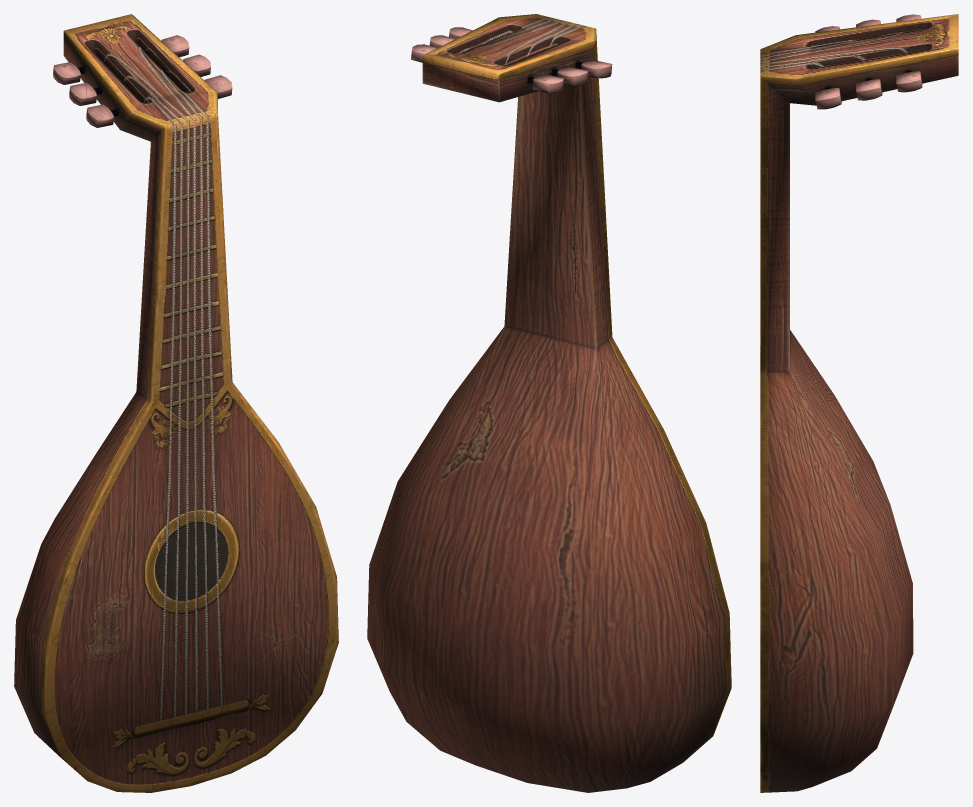
The model's file is lute.glb.
3 views of the same model, side by side, from view 1: azimuth 30°, elevation 25°; view 2: azimuth 150°, elevation 25°; view 3: azimuth 270°, elevation 25° (orthographic). The views are drawn at different scales.
Parts seen in each view (by area): view 1: Base_low.002; view 2: Base_low.002; view 3: Base_low.002.
Boxes of the visible parts, x1,y1,x2,y2 form: Base_low.002: (14,14,338,792); Base_low.002: (367,14,731,792); Base_low.002: (760,14,958,792).
Bounding box in the file's own units: 0.2906 × 0.6549 × 0.1602.
1 material, 1 textured.
